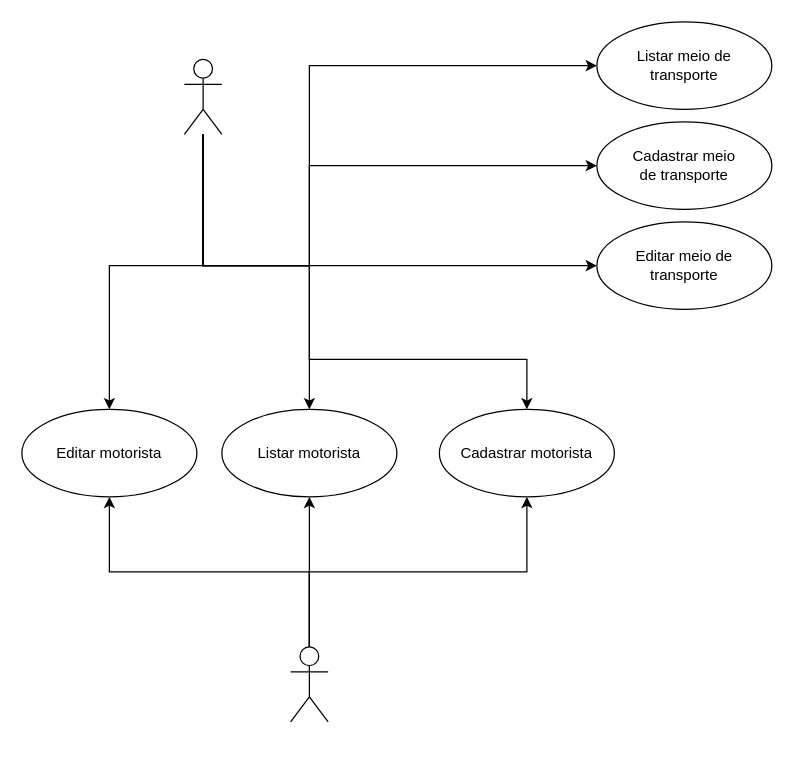
Some shapes in this 794 by 770 pixel diagram are drawn without their labels. The shapes that lost their labels are listed below. From the top down, each one's box as (x1, y1, x2, y2) in pixels, then its label:
(183, 58, 222, 134): Gestor
(289, 646, 328, 722): Motorista
